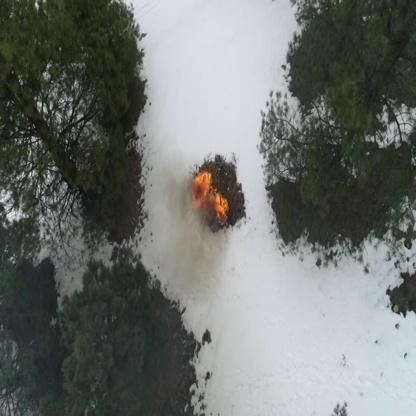Fire: (191, 173, 212, 207), (212, 200, 230, 226), (212, 191, 223, 203)
